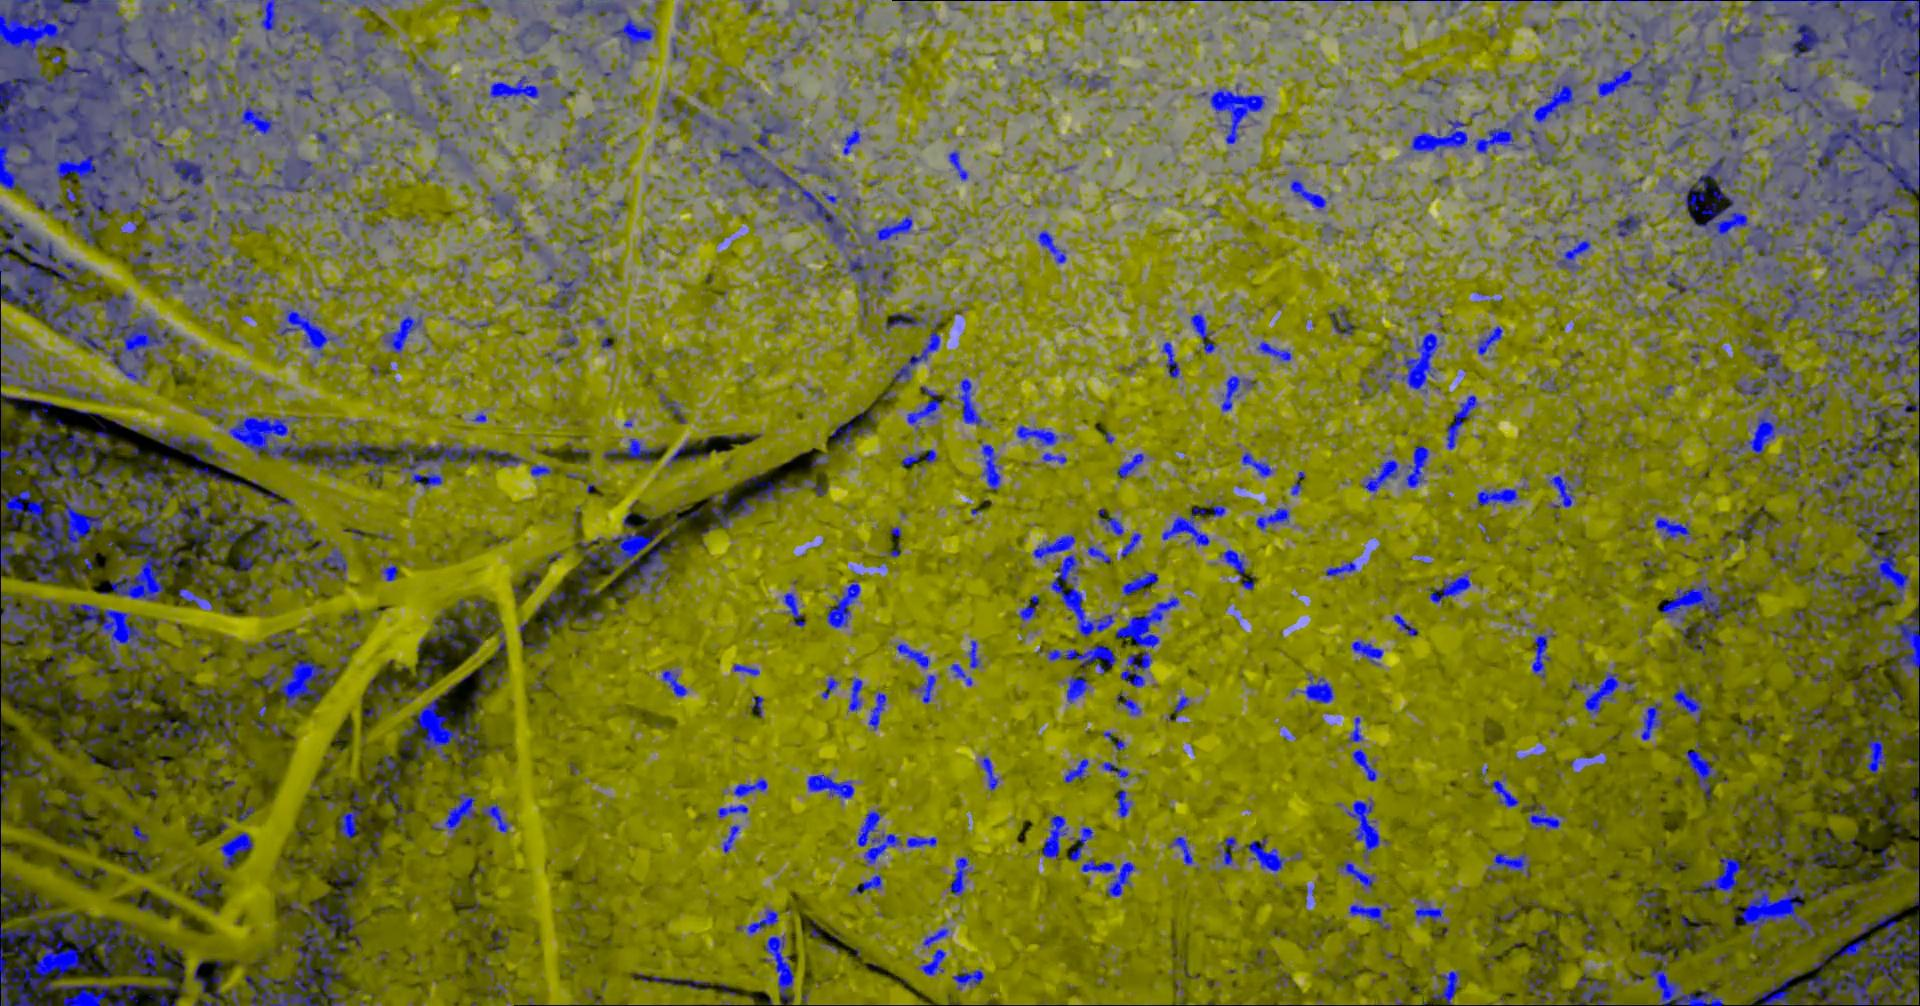ant: (1724, 405, 1797, 459), (243, 151, 316, 203), (1736, 339, 1796, 399), (891, 320, 942, 382), (279, 307, 343, 356), (1684, 851, 1742, 899), (147, 429, 229, 464), (284, 546, 348, 589), (1347, 798, 1390, 861), (1806, 826, 1858, 878), (662, 103, 733, 140), (387, 79, 439, 128), (1402, 332, 1444, 392), (372, 779, 415, 837), (208, 554, 258, 603), (1779, 276, 1823, 330), (763, 934, 796, 1005), (1534, 77, 1585, 123), (20, 373, 103, 400), (1082, 857, 1137, 895), (1048, 644, 1117, 673), (353, 23, 385, 86), (419, 608, 465, 652), (1851, 725, 1891, 774), (1686, 741, 1719, 798), (1163, 507, 1211, 545), (433, 793, 477, 833), (1752, 970, 1804, 1005), (248, 631, 307, 661), (832, 409, 877, 447), (1448, 394, 1479, 448), (251, 479, 295, 518), (169, 152, 218, 187), (490, 75, 551, 102), (828, 580, 862, 627), (516, 19, 561, 53), (98, 681, 146, 713), (1568, 970, 1613, 1005), (604, 438, 667, 462), (385, 312, 423, 352), (632, 970, 709, 989), (1585, 672, 1620, 713), (754, 111, 789, 152), (908, 386, 942, 428), (1222, 547, 1256, 589), (1246, 837, 1288, 871), (150, 177, 201, 205), (489, 196, 527, 232), (340, 789, 367, 841), (194, 958, 223, 1005), (1636, 9, 1671, 47), (1825, 897, 1865, 930), (1796, 705, 1839, 735), (543, 589, 571, 636), (1223, 375, 1258, 412), (1747, 224, 1787, 257), (1431, 572, 1472, 603), (848, 254, 881, 292), (1672, 683, 1704, 723), (1, 528, 29, 573), (159, 229, 193, 264), (1558, 235, 1592, 271), (220, 832, 254, 868), (1363, 459, 1399, 492), (1528, 128, 1559, 166), (667, 439, 711, 466), (130, 246, 161, 283), (1034, 533, 1077, 560), (149, 976, 188, 1005), (808, 774, 855, 798), (1291, 179, 1328, 210), (1350, 903, 1392, 930), (1, 392, 60, 412), (1338, 860, 1377, 889), (960, 379, 984, 424), (417, 652, 444, 691), (737, 908, 780, 934), (1771, 535, 1801, 572), (1811, 875, 1855, 899), (1044, 815, 1069, 857), (1533, 633, 1556, 678), (1192, 312, 1218, 353), (1667, 271, 1704, 298), (1524, 803, 1562, 829), (1406, 445, 1430, 486), (1490, 852, 1531, 876), (1018, 424, 1068, 445), (1770, 445, 1801, 478), (1525, 972, 1556, 1005), (1432, 970, 1462, 1005), (1737, 514, 1763, 554), (1486, 779, 1521, 807), (237, 44, 274, 71), (1, 337, 22, 385), (1039, 230, 1068, 263), (488, 611, 509, 655), (549, 277, 577, 311), (1810, 608, 1837, 643), (1691, 5, 1719, 38), (1302, 674, 1335, 702), (1123, 570, 1161, 594), (1257, 503, 1291, 530), (888, 312, 930, 334), (554, 608, 601, 627), (983, 445, 1002, 490), (897, 643, 931, 668), (1070, 826, 1095, 861), (194, 876, 223, 906), (951, 856, 973, 895), (1, 671, 33, 697), (1550, 475, 1576, 508), (1352, 748, 1378, 781), (1642, 702, 1663, 741), (1330, 305, 1356, 335), (662, 392, 688, 423), (1656, 517, 1691, 540), (785, 592, 808, 627), (1352, 640, 1384, 666), (1907, 841, 1920, 904), (1876, 687, 1903, 715), (483, 804, 510, 832), (919, 948, 947, 976), (1243, 451, 1272, 478), (372, 753, 401, 780), (14, 754, 43, 781), (1882, 847, 1909, 876), (58, 721, 89, 747), (1415, 898, 1445, 923), (481, 967, 505, 998), (1806, 384, 1829, 417), (869, 691, 888, 730), (1478, 488, 1520, 506), (1098, 508, 1125, 536), (439, 135, 465, 164), (192, 687, 217, 716), (1170, 835, 1195, 864), (180, 587, 215, 608), (1686, 913, 1707, 949), (663, 669, 690, 696), (1258, 340, 1293, 361), (1068, 671, 1090, 702), (1688, 67, 1705, 105), (1163, 340, 1181, 379), (903, 448, 938, 467), (1479, 326, 1503, 354), (1117, 453, 1145, 478), (735, 777, 770, 796), (954, 969, 985, 989), (1617, 213, 1643, 238), (914, 674, 937, 702), (982, 754, 999, 790), (950, 150, 970, 180), (794, 165, 834, 180), (852, 874, 883, 894), (296, 75, 319, 102), (877, 260, 895, 295), (1738, 718, 1760, 746), (1638, 883, 1660, 911), (465, 614, 485, 643), (669, 507, 705, 523), (1065, 758, 1090, 782), (215, 210, 245, 229), (130, 854, 160, 873), (571, 43, 599, 64), (356, 847, 383, 868), (217, 165, 254, 180), (844, 126, 863, 155), (430, 83, 453, 107), (1721, 243, 1743, 267), (1117, 692, 1142, 715), (1751, 793, 1775, 815), (110, 758, 137, 779), (276, 46, 298, 69), (315, 128, 338, 151), (1396, 614, 1418, 636), (1669, 131, 1693, 152), (177, 202, 201, 224), (724, 824, 742, 854), (1220, 836, 1238, 865), (524, 567, 545, 592), (1020, 594, 1040, 620), (924, 927, 950, 948), (850, 677, 863, 713), (1845, 782, 1865, 807), (1765, 520, 1784, 545), (1103, 761, 1130, 779), (952, 663, 974, 685), (1116, 789, 1133, 817), (1581, 922, 1597, 950), (1123, 532, 1142, 556), (1813, 951, 1837, 970), (414, 57, 436, 77), (823, 184, 846, 203), (237, 799, 257, 822), (561, 323, 579, 347), (1327, 561, 1357, 575), (1770, 629, 1801, 643), (804, 479, 829, 495), (1497, 904, 1523, 921), (338, 934, 363, 950), (1909, 423, 1920, 459), (523, 639, 550, 654), (137, 708, 152, 734), (61, 809, 97, 821), (717, 804, 749, 817), (1765, 263, 1789, 279), (1088, 545, 1112, 561), (354, 152, 373, 173), (342, 608, 362, 627), (131, 823, 151, 842), (165, 948, 180, 973), (823, 677, 841, 699), (1087, 72, 1110, 89), (1622, 177, 1644, 193), (1897, 728, 1920, 744), (1291, 471, 1307, 495), (194, 815, 213, 835), (1764, 956, 1783, 976), (969, 640, 982, 668), (1350, 716, 1364, 742), (75, 868, 109, 878), (168, 272, 185, 291), (344, 527, 371, 540), (1790, 655, 1808, 674), (206, 135, 239, 145), (91, 657, 108, 677), (83, 737, 104, 752), (1865, 662, 1878, 687), (75, 686, 88, 711), (1721, 535, 1735, 558), (381, 563, 399, 580), (524, 236, 543, 253), (1863, 873, 1879, 892), (225, 988, 244, 1005), (69, 826, 89, 841), (750, 695, 764, 716), (735, 663, 761, 674), (370, 678, 389, 694), (69, 793, 88, 808), (335, 79, 356, 93), (39, 789, 53, 809), (1044, 452, 1068, 464), (1909, 757, 1920, 781), (1382, 370, 1394, 391), (532, 464, 554, 476), (198, 105, 213, 123), (317, 177, 335, 192), (1840, 730, 1855, 748), (495, 929, 509, 948), (1854, 680, 1865, 702), (479, 668, 491, 688), (1175, 695, 1190, 711), (1909, 786, 1920, 808), (677, 10, 690, 29), (226, 274, 245, 287), (811, 453, 830, 466), (364, 704, 383, 716), (1765, 138, 1785, 150), (43, 691, 63, 702), (491, 669, 505, 686), (744, 0, 763, 11), (91, 700, 110, 711), (197, 239, 212, 253), (270, 721, 284, 735), (337, 869, 350, 883), (1792, 610, 1807, 622), (579, 152, 597, 163), (543, 64, 556, 77), (1213, 503, 1227, 516), (1, 751, 14, 765), (1277, 973, 1290, 987), (891, 48, 907, 60), (673, 37, 681, 58)
